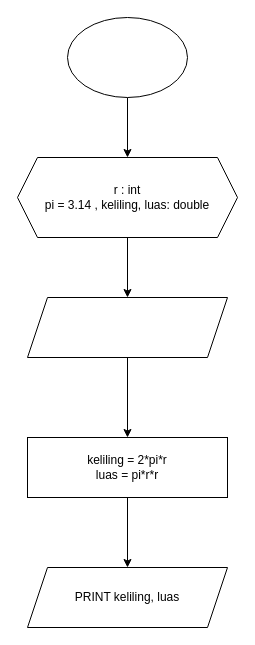
The diagram is 255 pixels wide and 645 high, and some of its shapes have lost their labels. The centre of each missing label's shape, as x and y in pixels:
INPUT r: point 127,327
START: point 127,57
